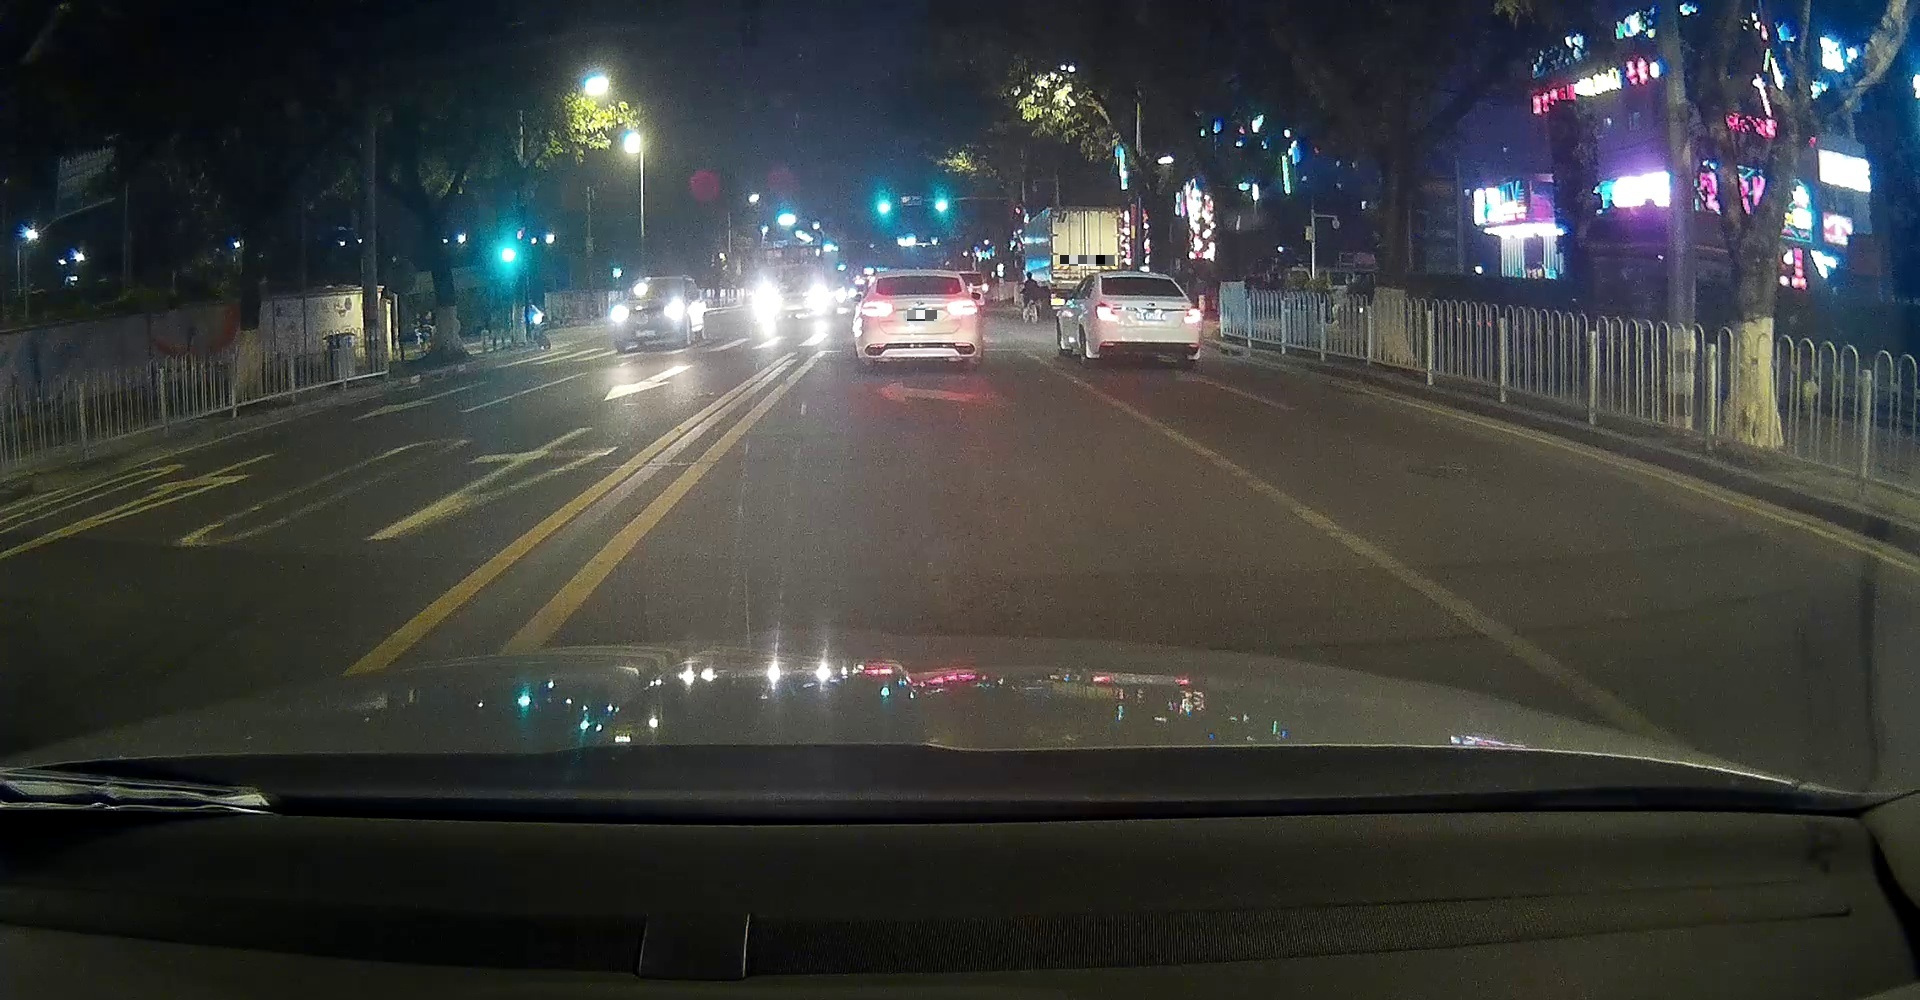L_light: (861, 301, 893, 319), (1095, 302, 1119, 322)
R_light: (947, 299, 977, 316), (1183, 305, 1200, 324)
T_light: (909, 275, 926, 280), (1131, 277, 1145, 280)
night-no: (858, 270, 982, 371), (1092, 272, 1200, 367)
plate_1: (907, 310, 937, 321)
plate_2: (1060, 255, 1115, 266)
